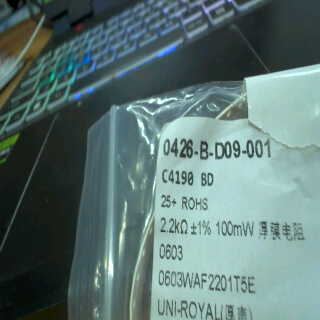2.2kR: (157, 211, 190, 238)
